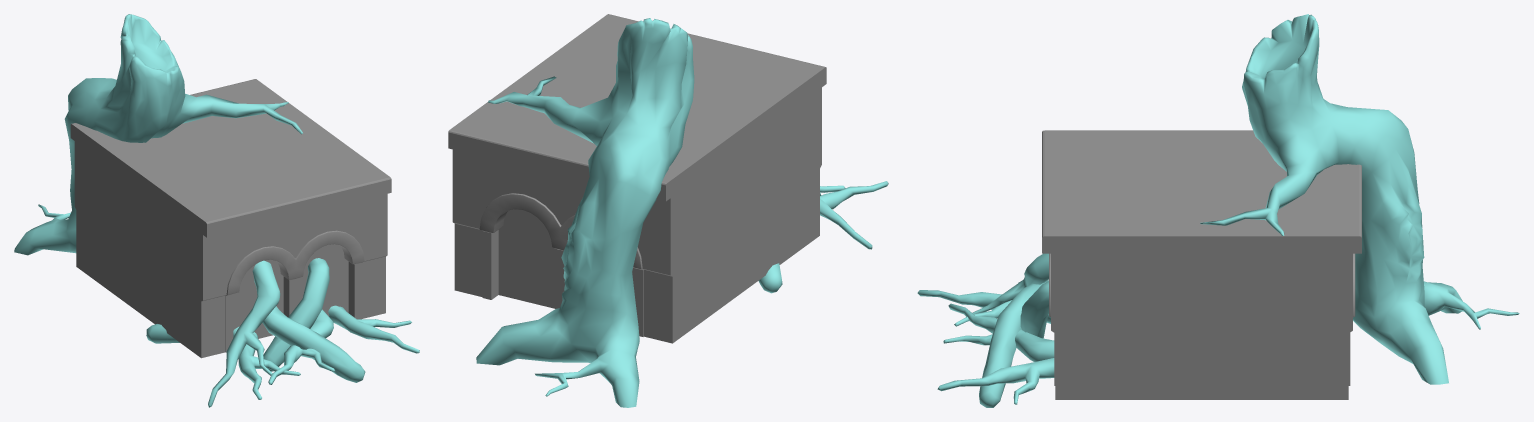
Rendered from Part_3_gimmick1_2_mesh.fbx.
The picture shows the model from 3 angles, left to right: view 1: azimuth 30°, elevation 25°; view 2: azimuth 150°, elevation 25°; view 3: azimuth 270°, elevation 25°; orthographic projection. The views are drawn at different scales.
Visible parts, largest first — view 1: Part_3_gimmick1_2_mesh; view 2: Part_3_gimmick1_2_mesh; view 3: Part_3_gimmick1_2_mesh.
Boxes of the visible parts, left/top/right/bottom form: Part_3_gimmick1_2_mesh: left=14, top=14, right=419, bottom=407; Part_3_gimmick1_2_mesh: left=448, top=14, right=888, bottom=407; Part_3_gimmick1_2_mesh: left=917, top=14, right=1519, bottom=407.
Size of the model in its own units: 11.3 by 14.74 by 23.67.
